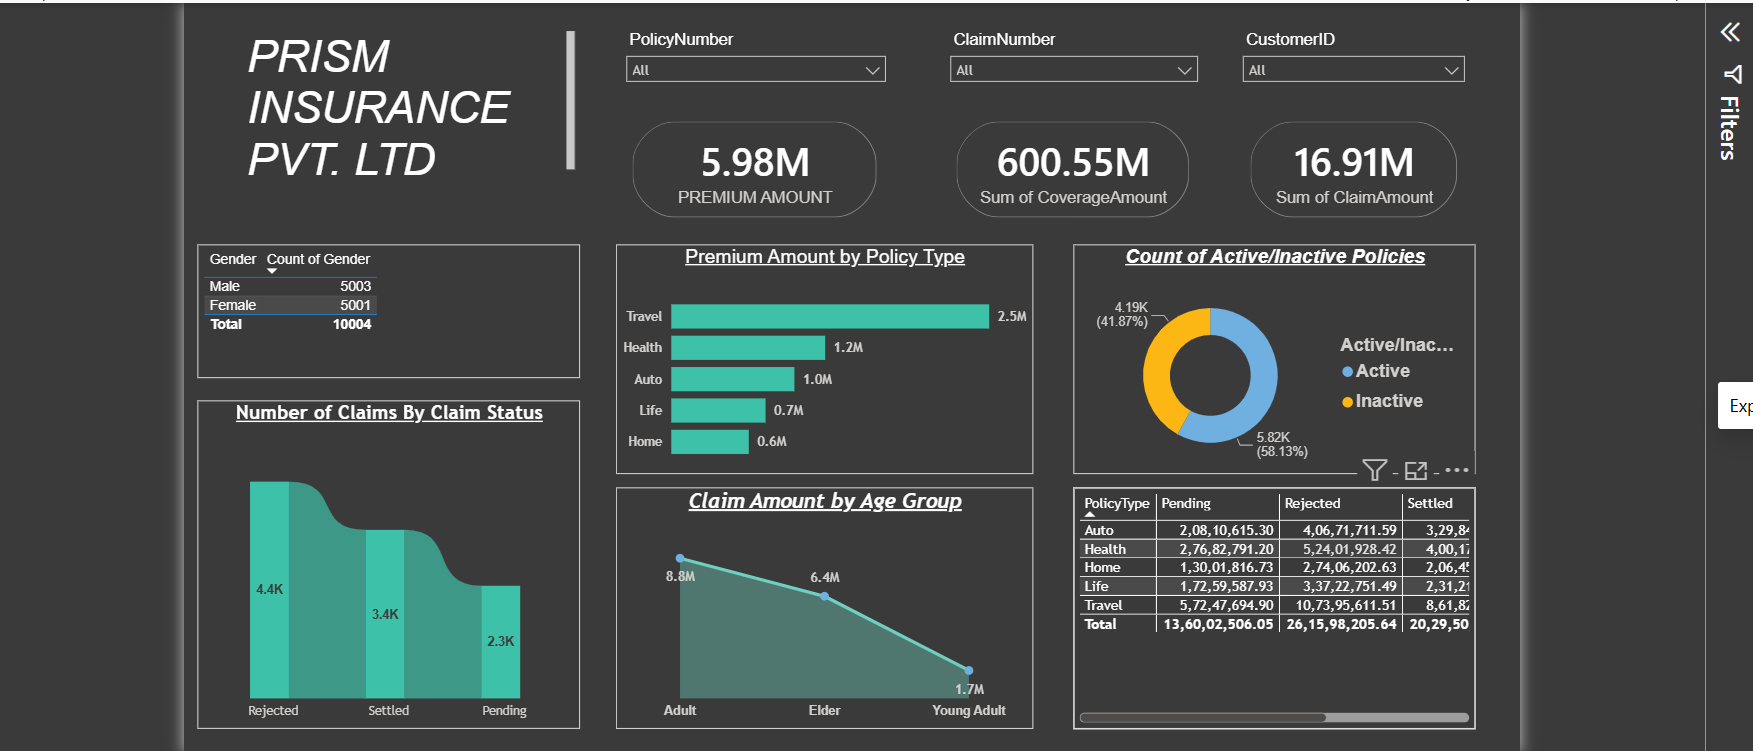

What the dashboard file says about the page in this screenshot:
{"tool":"powerbi","page":{"name":"Page 1","canvas":[1280,720],"ordinal":0},"visuals":[{"type":"slicer","fields":{"Values":["InsuranceData.PolicyNumber"]},"box":[414.2,20.1,268.3,128.5],"z":0},{"type":"slicer","fields":{"Values":["InsuranceData.ClaimNumber"]},"box":[724.8,20.1,257,128.5],"z":1000},{"type":"slicer","fields":{"Values":["InsuranceData.CustomerID"]},"box":[1005.2,20.1,232.4,128.5],"z":2000},{"type":"textbox","box":[54.6,21.6,325,150],"z":3000},{"type":"cardVisual","fields":{"Data":["Sum(InsuranceData.PremiumAmount)"]},"box":[412.7,96.4,268.3,126.6],"z":4000},{"type":"cardVisual","fields":{"Data":["Sum(InsuranceData.CoverageAmount)"]},"box":[723.4,96.4,257,126.6],"z":5000},{"type":"cardVisual","fields":{"Data":["Sum(InsuranceData.ClaimAmount)"]},"box":[1005.2,96.4,232.4,126.6],"z":6000},{"type":"ribbonChart","title":"Number of Claims By Claim Status","fields":{"Category":["InsuranceData.ClaimStatus"],"Y":["CountNonNull(InsuranceData.ClaimStatus)"]},"box":[12.9,381.1,366.7,314.9],"z":6001},{"type":"tableEx","fields":{"Values":["InsuranceData.Gender","CountNonNull(InsuranceData.Gender)"]},"box":[12.9,231.5,366.7,128],"z":6002},{"type":"barChart","title":"Premium Amount by Policy Type","fields":{"Category":["InsuranceData.PolicyType"],"Y":["Sum(InsuranceData.PremiumAmount)"]},"box":[414.2,231.5,399.8,220],"z":6003},{"type":"lineChart","title":" Claim Amount by Age  Group","fields":{"Category":["InsuranceData.Age Group"],"Y":["Sum(InsuranceData.ClaimAmount)"]},"box":[414.2,464.5,399.8,231.5],"z":6004},{"type":"donutChart","title":"Count of Active/Inactive Policies","fields":{"Category":["InsuranceData.Active/Inactive"],"Y":["CountNonNull(InsuranceData.Active/Inactive)"]},"box":[852.8,231.5,385.4,220],"z":6005},{"type":"pivotTable","fields":{"Rows":["InsuranceData.PolicyType"],"Columns":["InsuranceData.ClaimStatus"],"Values":["Sum(InsuranceData.CoverageAmount)"]},"box":[852.8,464.5,385.4,231.5],"z":6006}]}

Visuals, with their boxes on the page's 1280x720 design canvas (x1, y1, x2, y2). These are canvas units, not pixel positions in the 1753x751 screenshot, which may show the page scaled, cropped or inside an application window:
slicer - InsuranceData.PolicyNumber: [414,20,682,149]
slicer - InsuranceData.ClaimNumber: [725,20,982,149]
slicer - InsuranceData.CustomerID: [1005,20,1238,149]
textbox: [55,22,380,172]
cardVisual - Sum(InsuranceData.PremiumAmount): [413,96,681,223]
cardVisual - Sum(InsuranceData.CoverageAmount): [723,96,980,223]
cardVisual - Sum(InsuranceData.ClaimAmount): [1005,96,1238,223]
"Number of Claims By Claim Status" ribbonChart: [13,381,380,696]
tableEx - InsuranceData.Gender x CountNonNull(InsuranceData.Gender): [13,232,380,360]
"Premium Amount by Policy Type" barChart: [414,232,814,452]
" Claim Amount by Age  Group" lineChart: [414,464,814,696]
"Count of Active/Inactive Policies" donutChart: [853,232,1238,452]
pivotTable - InsuranceData.PolicyType x InsuranceData.ClaimStatus: [853,464,1238,696]
